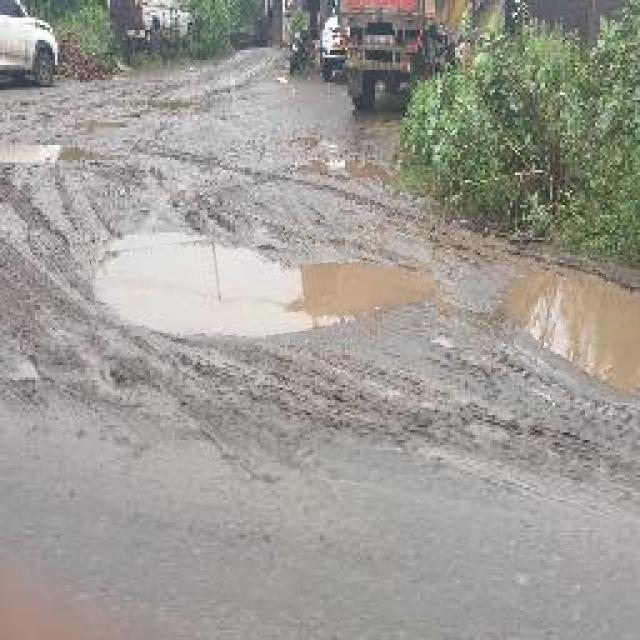puddle: (92, 223, 438, 352), (490, 265, 640, 400)
